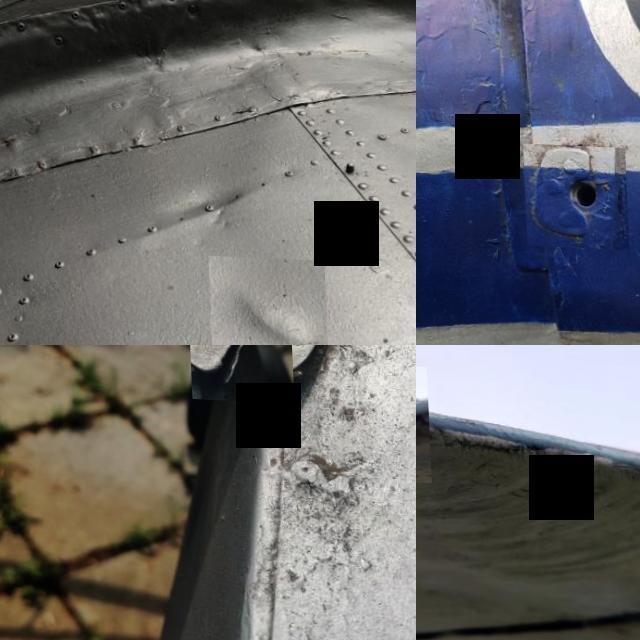Crack: (185, 345, 291, 400)
Dent: (148, 144, 266, 252), (205, 253, 326, 345)
Missing_Fastener: (520, 142, 626, 248)
